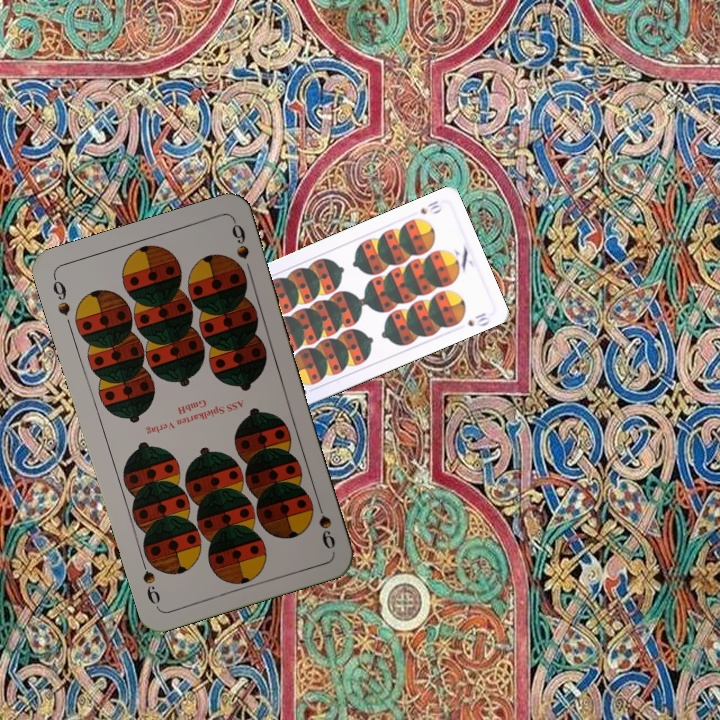S10: (416, 196, 445, 217)
S9: (312, 494, 338, 552), (48, 272, 73, 319)
